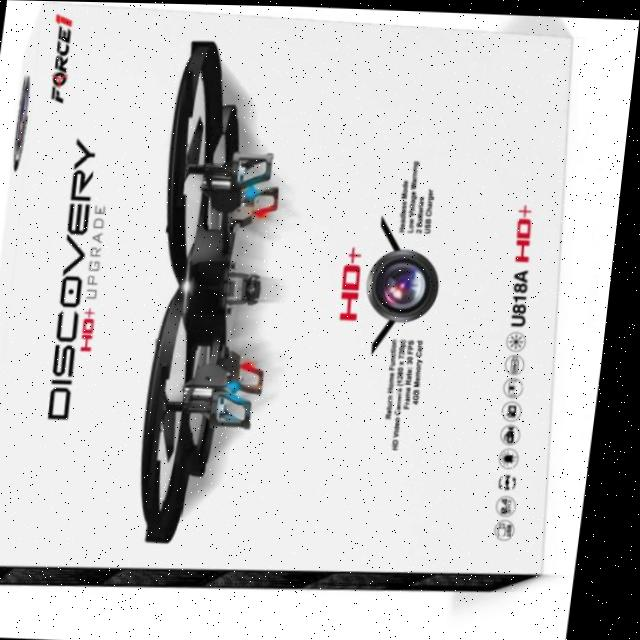drones: (102, 10, 329, 572)
